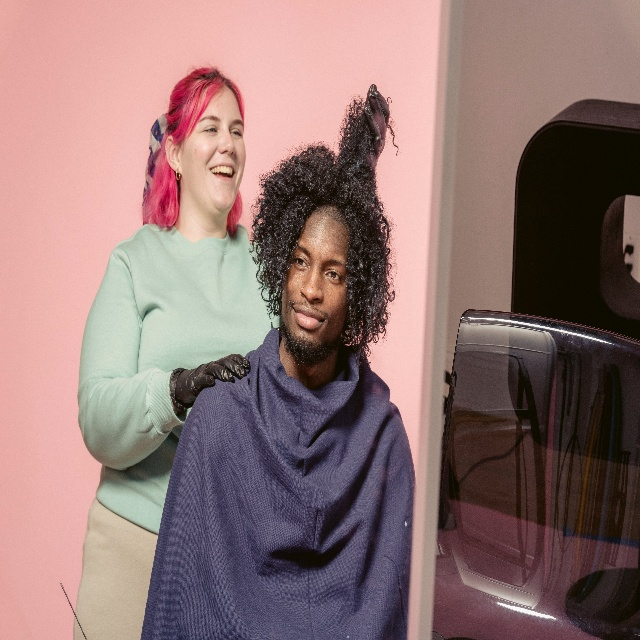Guantes: (169, 353, 249, 413), (364, 83, 389, 165)
